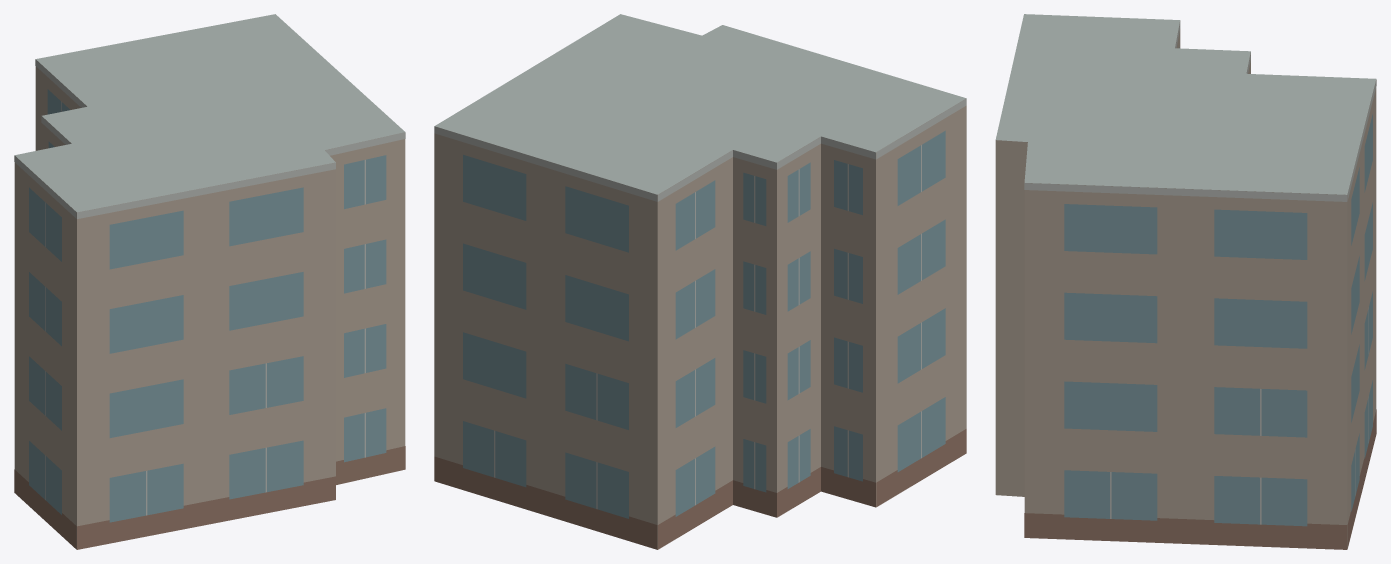
The model's file is survey-upis-32769351.glb.
3 views of the same model, side by side, from view 1: azimuth 30°, elevation 25°; view 2: azimuth 150°, elevation 25°; view 3: azimuth 270°, elevation 25° (orthographic). The views are drawn at different scales.
Parts seen in each view (by area): view 1: survey-upis-32769351.tmp; view 2: survey-upis-32769351.tmp; view 3: survey-upis-32769351.tmp.
Boxes of the visible parts, x1,y1,x2,y2 form: survey-upis-32769351.tmp: [14, 14, 405, 549]; survey-upis-32769351.tmp: [434, 14, 966, 549]; survey-upis-32769351.tmp: [995, 14, 1376, 549].
Size of the model in its own units: 13.23 by 12.1 by 11.78.
